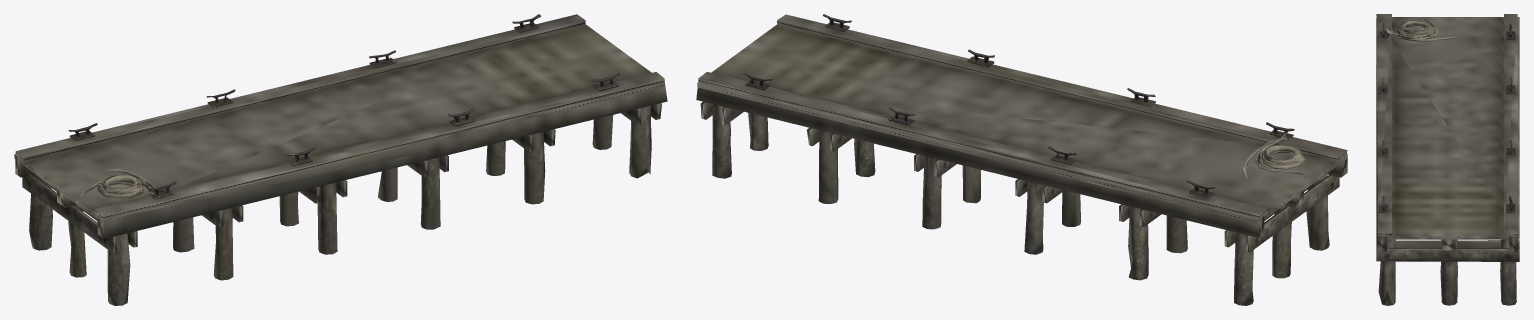
File: pier.glb
3 renders of one model, left to right at view 1: azimuth 30°, elevation 25°; view 2: azimuth 150°, elevation 25°; view 3: azimuth 270°, elevation 25°, orthographic. The views are drawn at different scales.
Visible parts, largest first — view 1: hull; view 2: hull; view 3: hull.
Part boxes in pixels (x1,y1,x2,y2): hull: (14,14,667,305); hull: (696,14,1347,305); hull: (1376,14,1519,305).
Size of the model in its own units: 16 by 2.96 by 4.42.
1 material, 1 textured.
